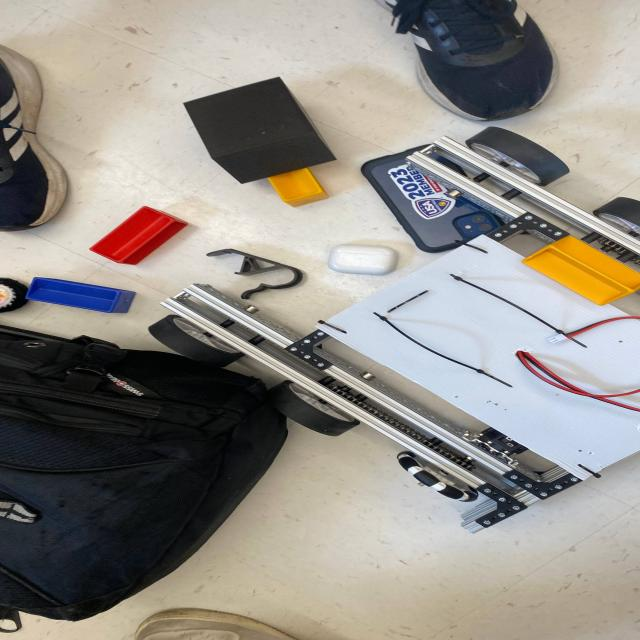blue-specimen: (24, 276, 138, 313)
red-specimen: (88, 206, 188, 266)
yellow-specimen: (526, 235, 640, 307), (267, 167, 329, 207)
